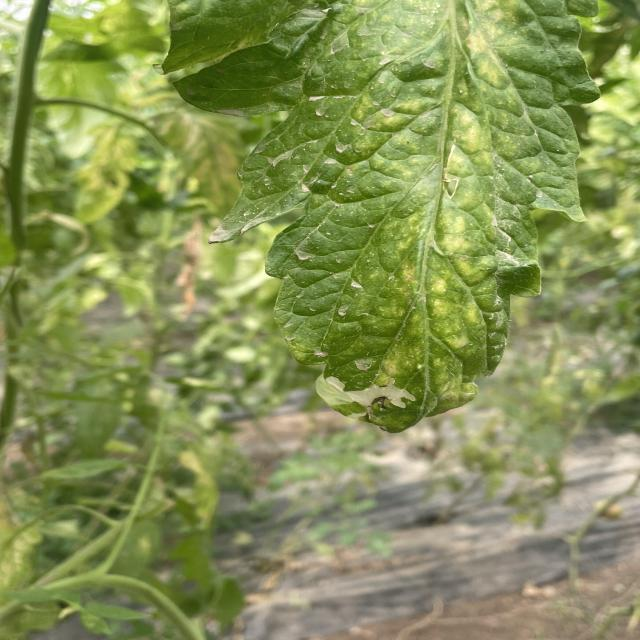Tuta absoluta: (322, 376, 416, 408)
